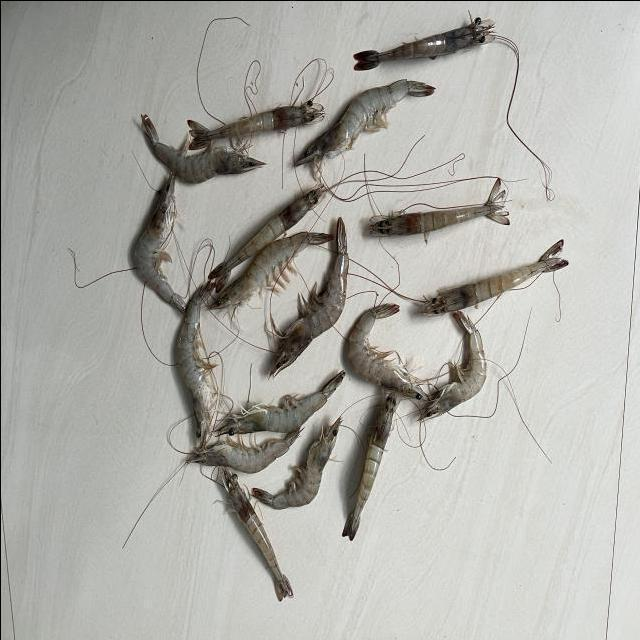shrimp: (294, 78, 434, 180), (267, 217, 348, 377), (422, 239, 568, 316), (220, 467, 292, 602), (217, 184, 326, 273), (208, 231, 332, 309), (342, 391, 401, 541), (353, 15, 511, 69), (215, 370, 344, 436), (140, 114, 263, 183), (250, 417, 341, 510), (367, 178, 509, 237), (347, 304, 427, 400), (418, 310, 486, 420), (133, 171, 185, 314), (186, 99, 324, 149), (176, 281, 217, 446), (185, 429, 300, 474)
